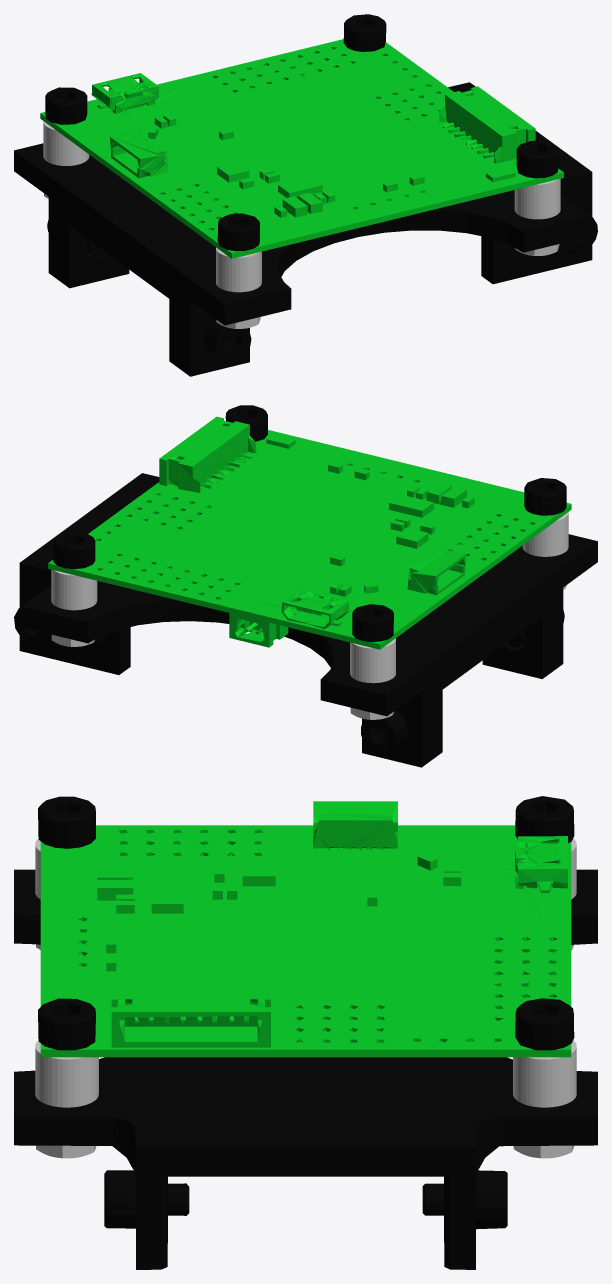
Rendered from spinal.dae.
3 renders of one model, top to bottom at view 1: azimuth 30°, elevation 25°; view 2: azimuth 150°, elevation 25°; view 3: azimuth 270°, elevation 25°, orthographic. The views are drawn at different scales.
Visible parts, largest first — view 1: spinal_unit_green, spinal_unit_black, spinal_unit_grey; view 2: spinal_unit_green, spinal_unit_black, spinal_unit_grey; view 3: spinal_unit_green, spinal_unit_black, spinal_unit_grey.
Part boxes in pixels (<box>): spinal_unit_green: <box>40,39,563,258</box>; spinal_unit_black: <box>14,14,597,376</box>; spinal_unit_grey: <box>43,121,560,328</box>; spinal_unit_green: <box>48,416,571,649</box>; spinal_unit_black: <box>14,405,597,767</box>; spinal_unit_grey: <box>51,512,568,719</box>; spinal_unit_green: <box>40,801,571,1057</box>; spinal_unit_black: <box>14,796,597,1269</box>; spinal_unit_grey: <box>35,838,576,1158</box>.
Bounding box in the file's own units: 0.062 × 0.055 × 0.0235.
